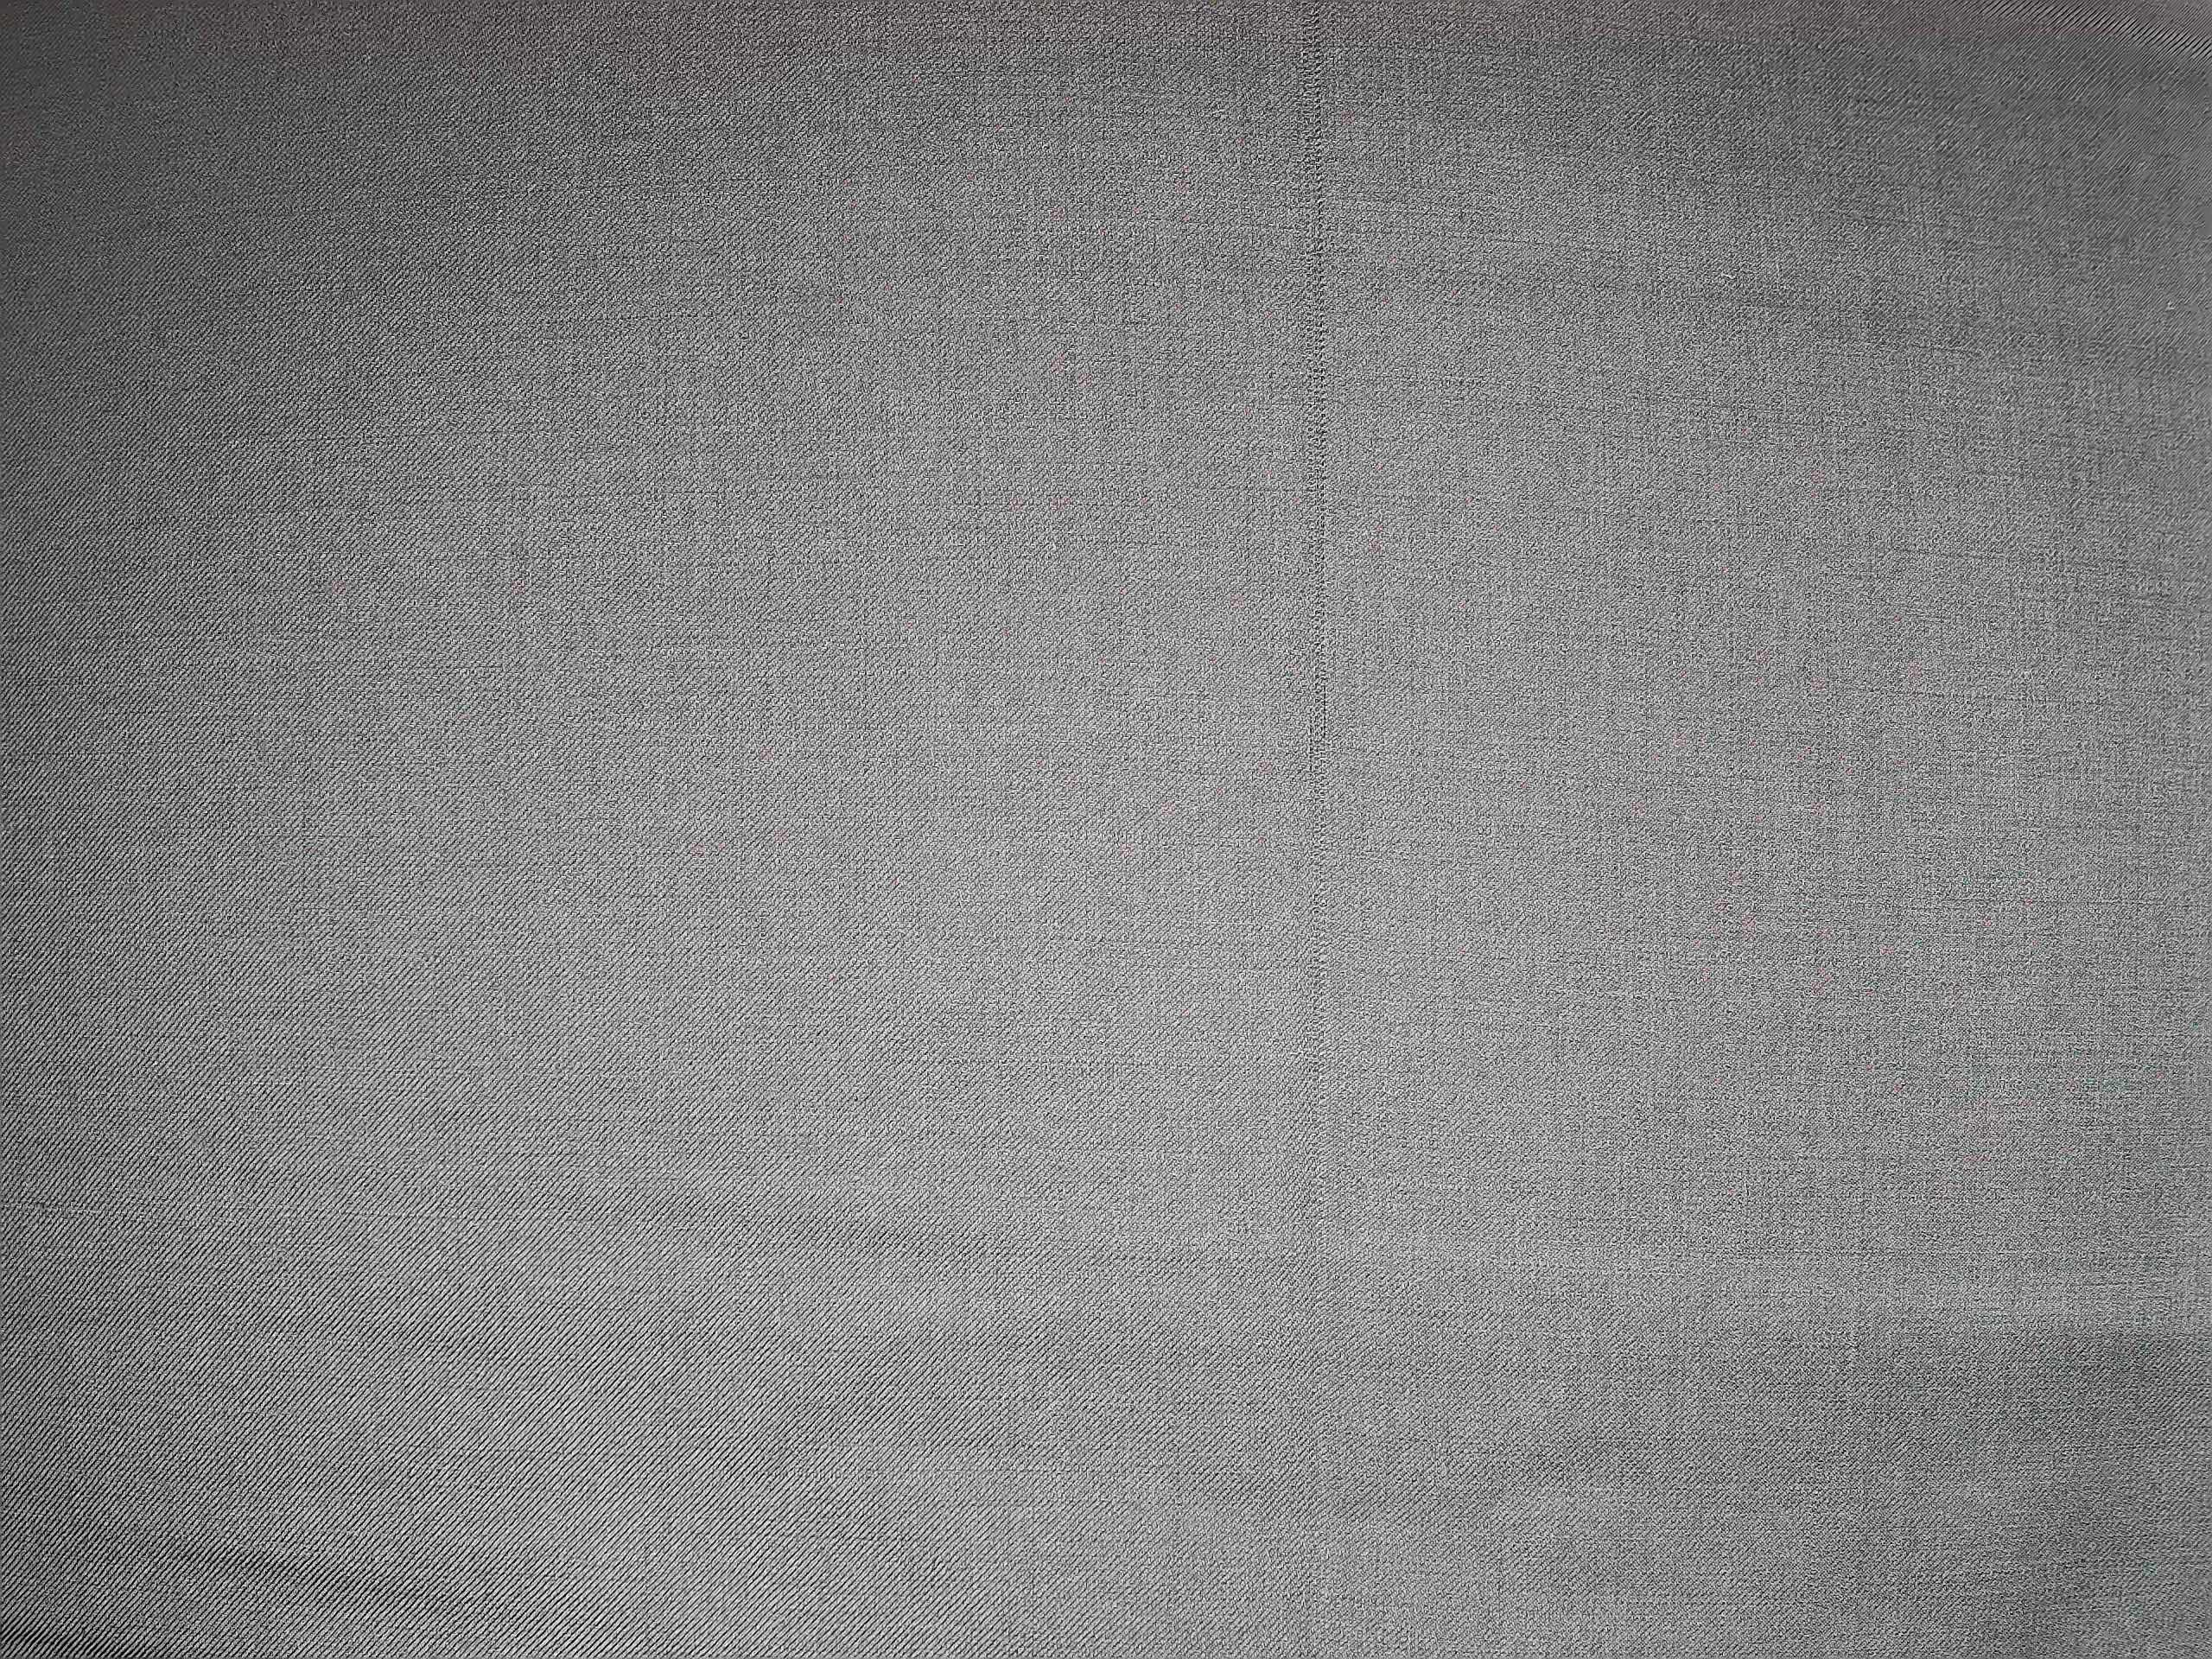hanging-warp: (1264, 2, 1367, 1523)
